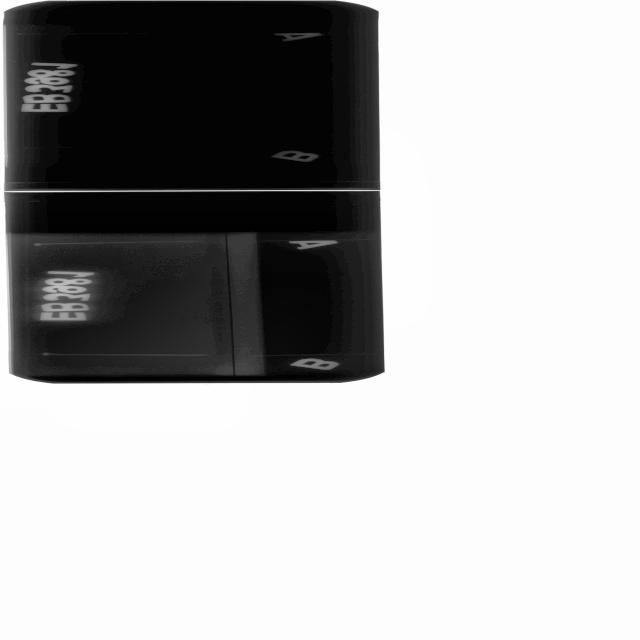LOP: (221, 262, 250, 367)
